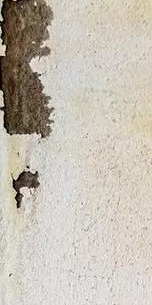Spalling: (1, 1, 56, 141), (10, 165, 41, 209)
